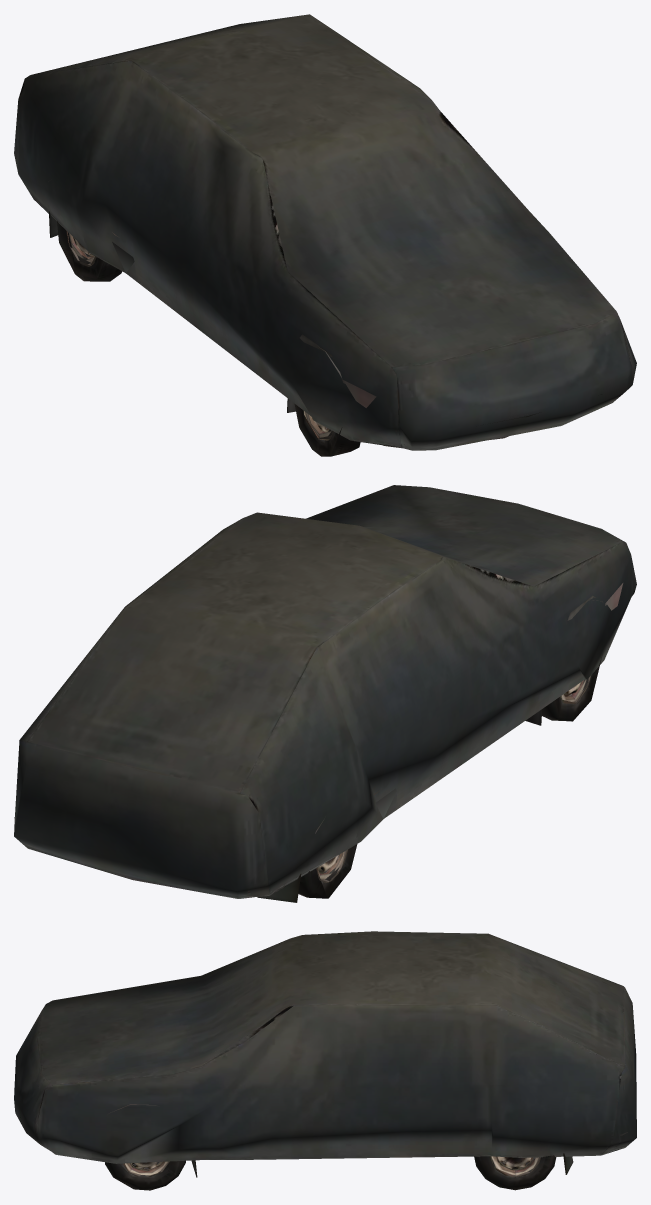
Rendered from covered_car.glb.
3 renders of one model, top to bottom at view 1: azimuth 30°, elevation 25°; view 2: azimuth 150°, elevation 25°; view 3: azimuth 270°, elevation 25°, orthographic. The views are drawn at different scales.
Parts seen in each view (by area): view 1: covered_car_wheel_02; view 2: covered_car_wheel_02; view 3: covered_car_wheel_02, covered_car_wheel_01.
Part boxes in pixels (x1,y1,x2,y2): covered_car_wheel_02: (14, 14, 636, 456); covered_car_wheel_02: (14, 485, 636, 902); covered_car_wheel_02: (14, 931, 636, 1177); covered_car_wheel_01: (105, 1155, 556, 1190).
Size of the model in its own units: 1.79 by 1.41 by 4.34.
Materials: 1 (1 with a texture image).
